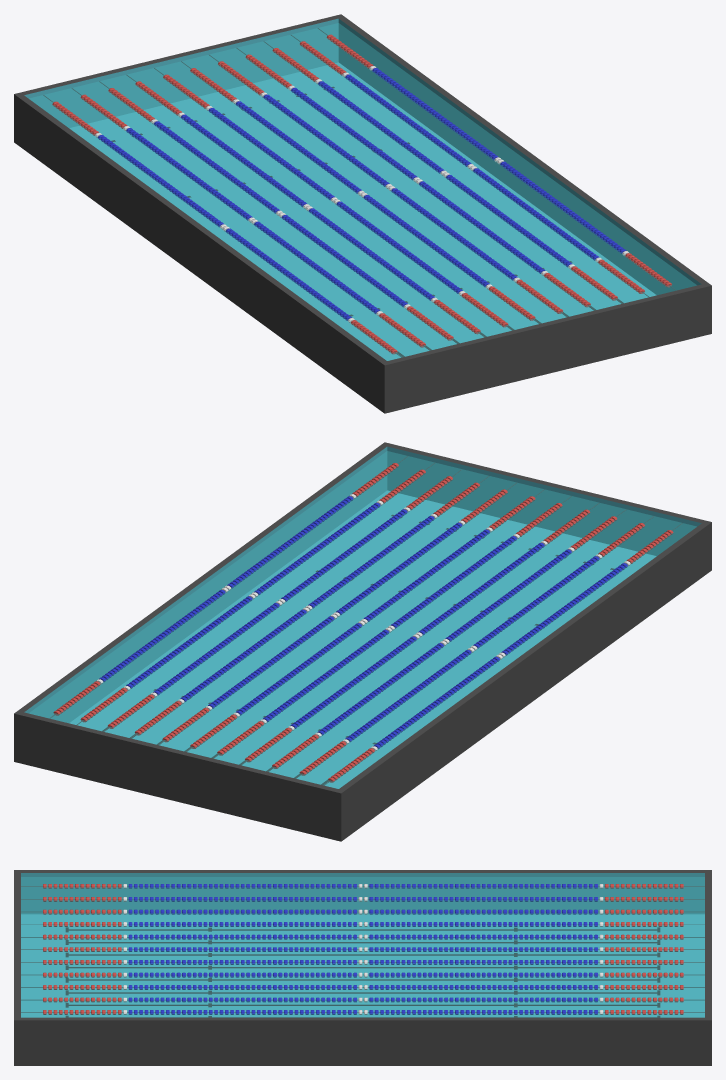
Rendered from Olympic Pool.fbx.
3 views of the same model, one above another, from view 1: azimuth 30°, elevation 25°; view 2: azimuth 150°, elevation 25°; view 3: azimuth 270°, elevation 25° (orthographic). The views are drawn at different scales.
Visible parts, largest first — view 1: Olympic Pool, Water, Rope 1, Rope 5, Rope 9, Rope 2, Rope 10, Rope 7, Rope 6, Rope 4, Rope 3, Rope 11 (+1 smaller); view 2: Olympic Pool, Water, Rope 3, Rope 5, Rope 10, Rope 2, Rope 1, Rope 7, Rope 6, Rope 4, Rope 9, Rope 11 (+1 smaller); view 3: Olympic Pool, Water, Rope 3, Rope 8, Rope 10, Rope 5, Rope 7, Rope 2, Rope 1, Rope 11, Rope 4, Rope 9 (+1 smaller).
Part boxes in pixels (x1,y1,x2,y2): Olympic Pool: [14, 14, 711, 413]; Water: [29, 23, 696, 360]; Rope 1: [43, 95, 401, 357]; Rope 5: [154, 68, 512, 330]; Rope 9: [264, 41, 621, 303]; Rope 2: [72, 88, 430, 350]; Rope 10: [291, 35, 648, 296]; Rope 7: [209, 55, 566, 316]; Rope 6: [181, 61, 539, 323]; Rope 4: [126, 75, 484, 336]; Rope 3: [99, 81, 457, 343]; Rope 11: [318, 28, 676, 290]; Olympic Pool: [14, 442, 711, 841]; Water: [29, 451, 696, 788]; Rope 3: [268, 509, 626, 771]; Rope 5: [213, 496, 571, 758]; Rope 10: [77, 463, 434, 724]; Rope 2: [295, 516, 653, 778]; Rope 1: [324, 523, 682, 785]; Rope 7: [159, 483, 516, 744]; Rope 6: [186, 489, 544, 751]; Rope 4: [241, 503, 599, 764]; Rope 9: [104, 469, 461, 731]; Rope 11: [49, 456, 407, 718]; Olympic Pool: [14, 870, 711, 1065]; Water: [21, 877, 704, 1017]; Rope 3: [21, 909, 704, 914]; Rope 8: [21, 972, 704, 977]; Rope 10: [21, 997, 704, 1002]; Rope 5: [21, 934, 704, 939]; Rope 7: [21, 960, 704, 964]; Rope 2: [21, 897, 704, 901]; Rope 1: [21, 884, 704, 888]; Rope 11: [21, 1010, 704, 1014]; Rope 4: [21, 922, 704, 926]; Rope 9: [21, 985, 704, 989].
Bounding box in the file's own units: 7800 × 1100 × 15302.
